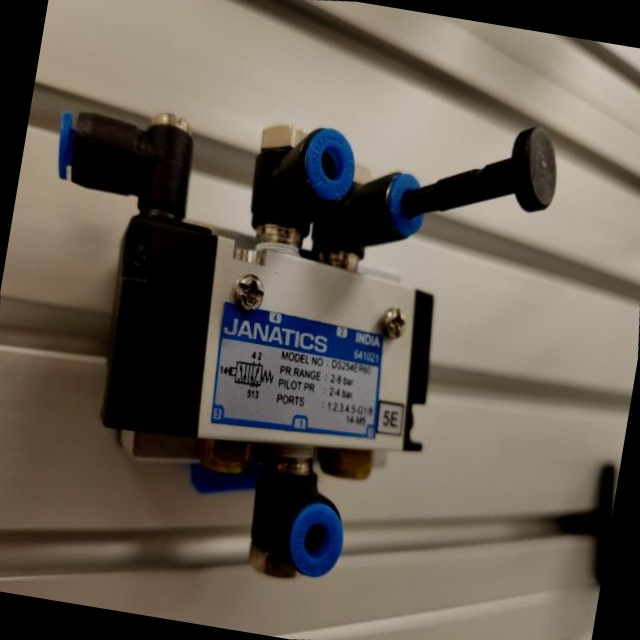5by2 DCV: (0, 25, 632, 640)
